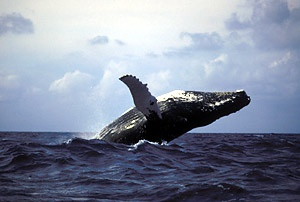humpback: (100, 88, 252, 144)
